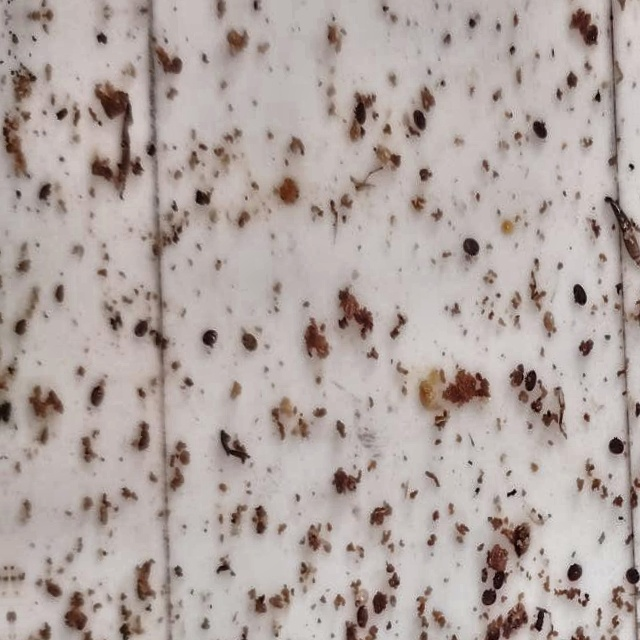varroa: (566, 559, 586, 583), (372, 589, 390, 615), (572, 280, 589, 307), (524, 366, 541, 392), (240, 330, 260, 351), (463, 234, 482, 256), (38, 178, 56, 201), (584, 22, 601, 46), (357, 600, 371, 628), (89, 382, 106, 405), (533, 117, 550, 140), (202, 325, 221, 345), (482, 586, 500, 607), (608, 434, 627, 453), (492, 567, 507, 591), (354, 99, 369, 122), (134, 316, 150, 336), (15, 313, 29, 335), (414, 107, 427, 129)
